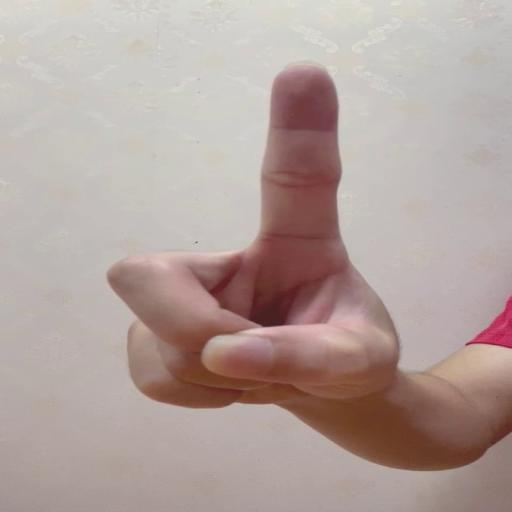point: (100, 56, 352, 408)
